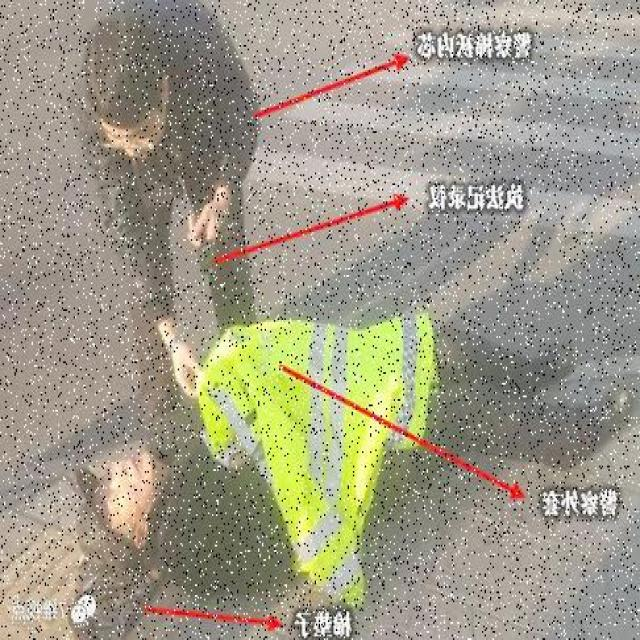fall: (106, 336, 608, 596)
